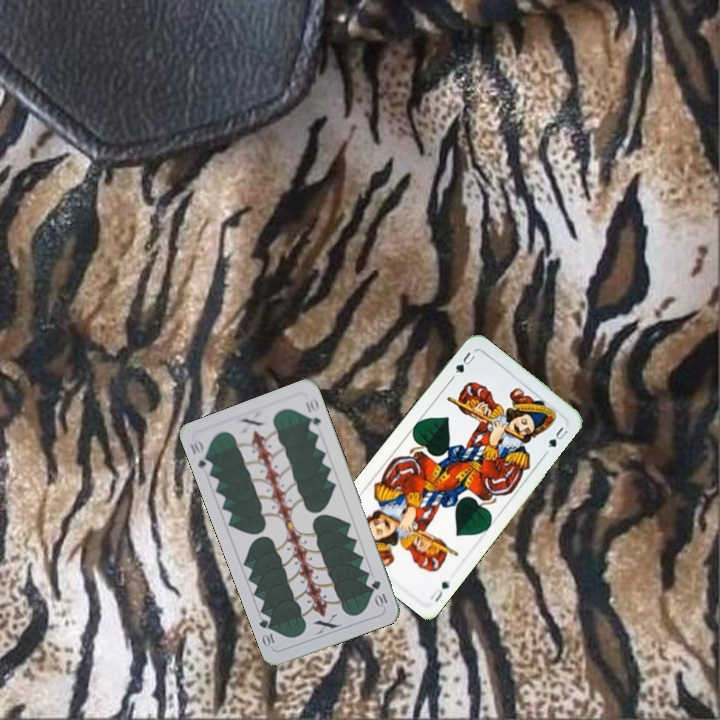G10: (186, 435, 215, 476), (367, 576, 390, 610)
GU: (426, 575, 453, 605), (451, 348, 478, 376)
